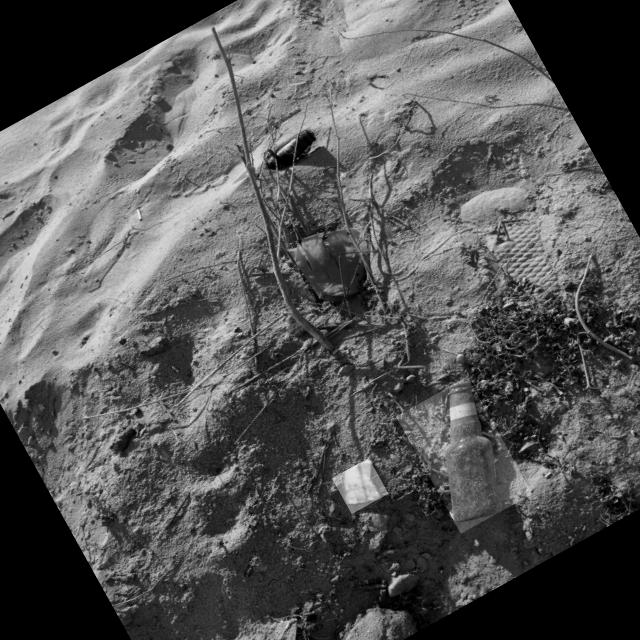Cup: (288, 228, 367, 301)
Glass bottle: (446, 381, 503, 522), (267, 130, 317, 169)
Unlabeled litter: (345, 460, 383, 504)
